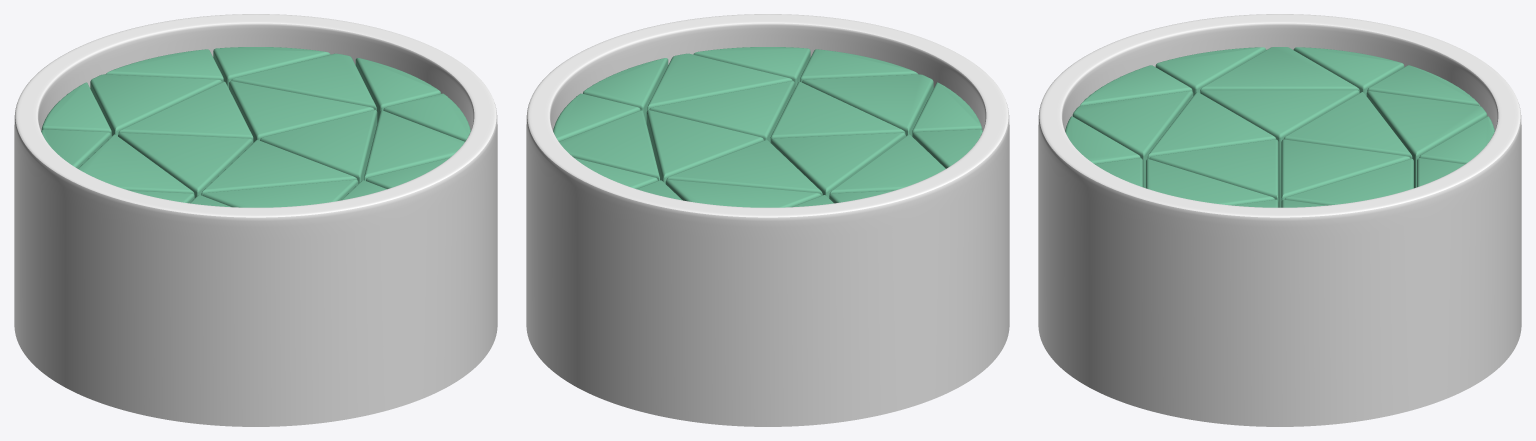
The model's file is Arena.fbx.
3 views of the same model, side by side, from view 1: azimuth 30°, elevation 25°; view 2: azimuth 150°, elevation 25°; view 3: azimuth 270°, elevation 25° (orthographic).
Parts seen in each view (by area): view 1: arena; view 2: arena; view 3: arena.
Part boxes in pixels (x1=…): arena: x1=14, y1=14, x2=497, y2=426; arena: x1=526, y1=14, x2=1009, y2=426; arena: x1=1038, y1=14, x2=1521, y2=426.
Size of the model in its own units: 3998 by 1916 by 3998.
